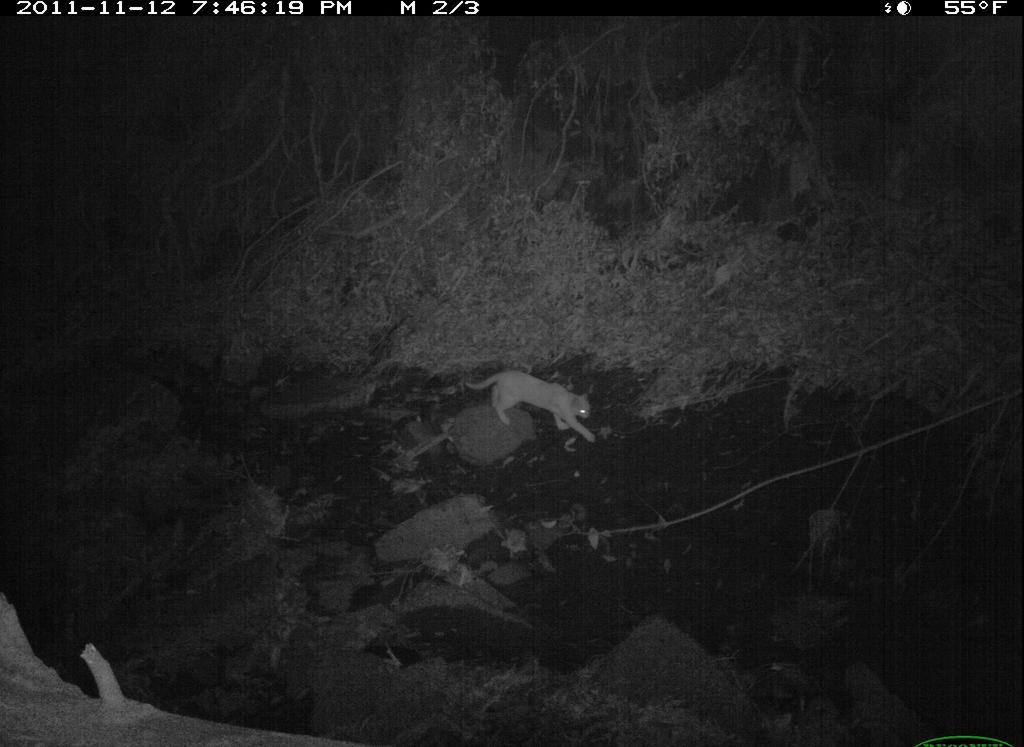cat: (446, 355, 681, 479)
